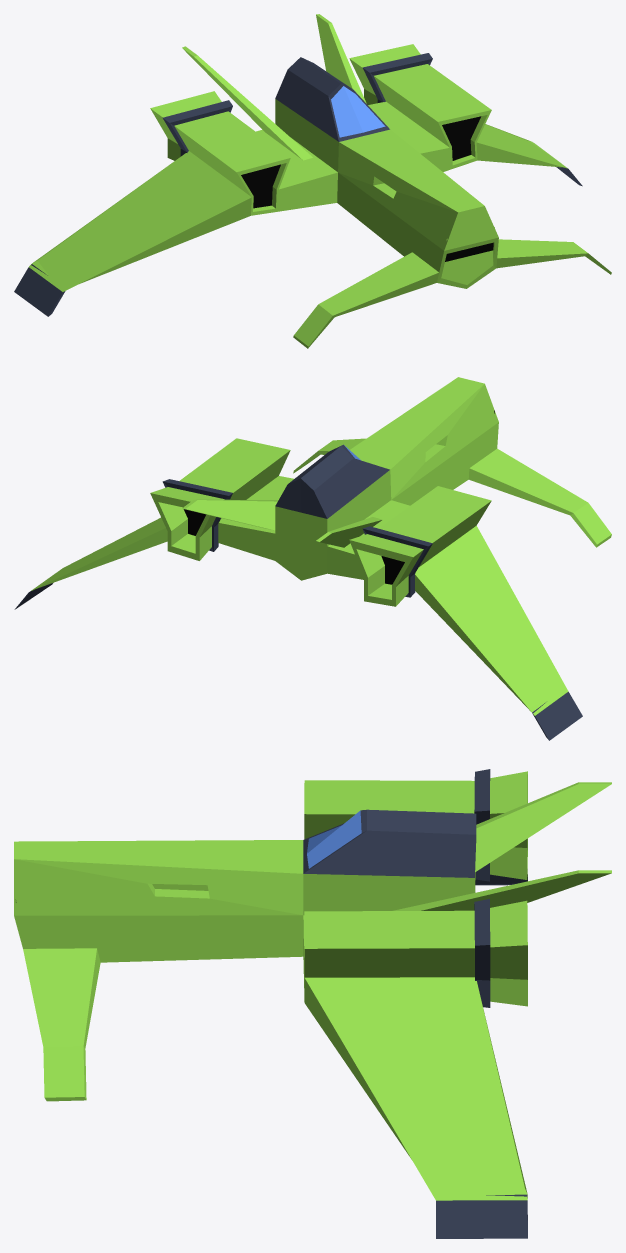
The model's file is SolarValkyrie.fbx.
The picture shows the model from 3 angles, top to bottom: view 1: azimuth 30°, elevation 25°; view 2: azimuth 150°, elevation 25°; view 3: azimuth 270°, elevation 25°; orthographic projection. The views are drawn at different scales.
Visible parts, largest first — view 1: SolarValkyrie; view 2: SolarValkyrie; view 3: SolarValkyrie.
Boxes of the visible parts, box(x1,y1,x2,y2) form: SolarValkyrie: box(14, 14, 611, 348); SolarValkyrie: box(14, 377, 611, 740); SolarValkyrie: box(14, 769, 611, 1238).
Bounding box in the file's own units: 20.49 × 6.82 × 14.64.
